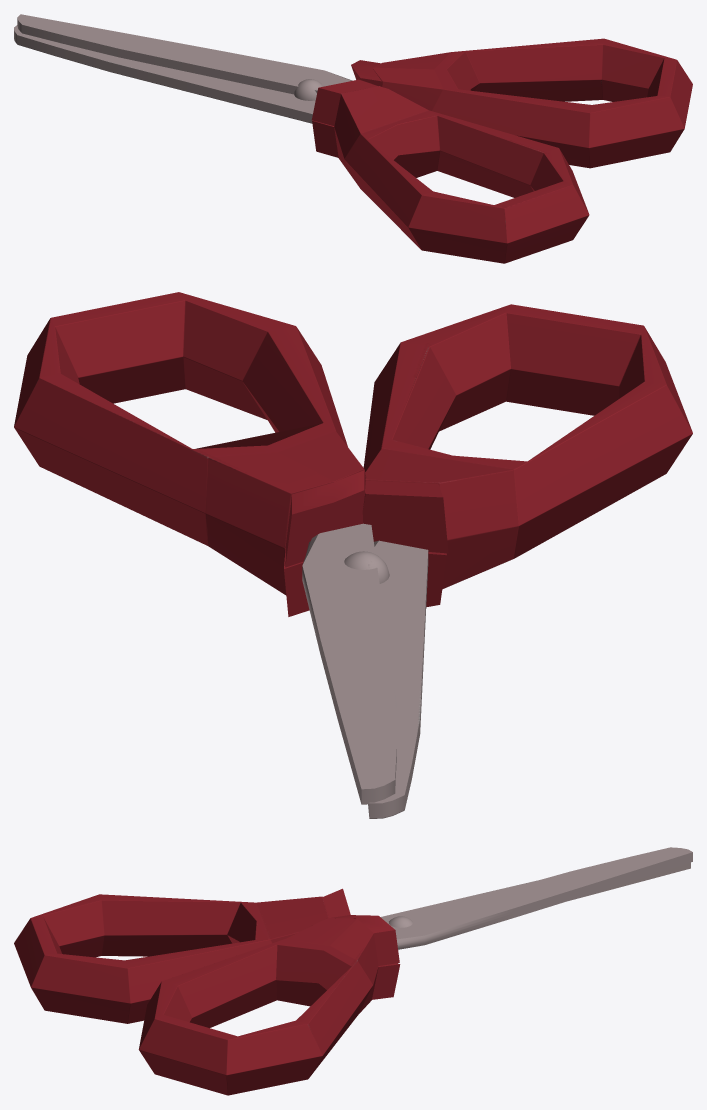
The model's file is scissor.fbx.
3 renders of one model, top to bottom at view 1: azimuth 30°, elevation 25°; view 2: azimuth 150°, elevation 25°; view 3: azimuth 270°, elevation 25°, orthographic. The views are drawn at different scales.
Parts seen in each view (by area): view 1: group13_pasted__group10_pasted__pasted__pasted__pasted__pTor; view 2: group13_pasted__group10_pasted__pasted__pasted__pasted__pTor; view 3: group13_pasted__group10_pasted__pasted__pasted__pasted__pTor.
Part boxes in pixels (<box>): group13_pasted__group10_pasted__pasted__pasted__pasted__pTor: <box>14,14,692,263</box>; group13_pasted__group10_pasted__pasted__pasted__pasted__pTor: <box>14,292,692,818</box>; group13_pasted__group10_pasted__pasted__pasted__pasted__pTor: <box>14,847,692,1095</box>.
Size of the model in its own units: 4.61 by 0.7101 by 5.92.
Materials: 1 (1 with a texture image).
